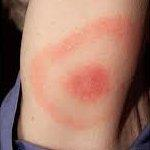Tick: (24, 14, 143, 131)
